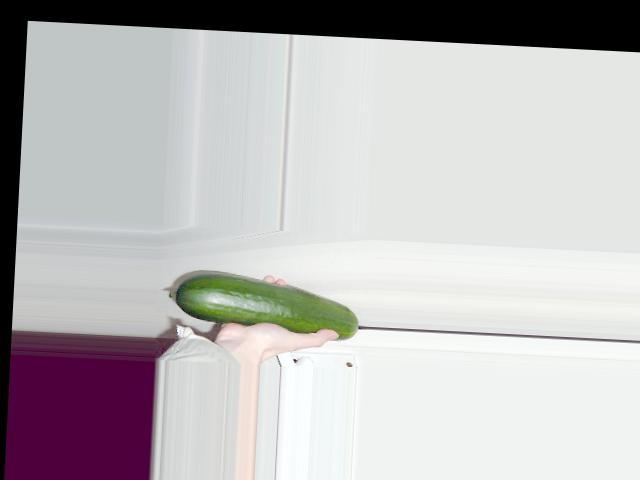cucumber: (167, 268, 361, 341)
